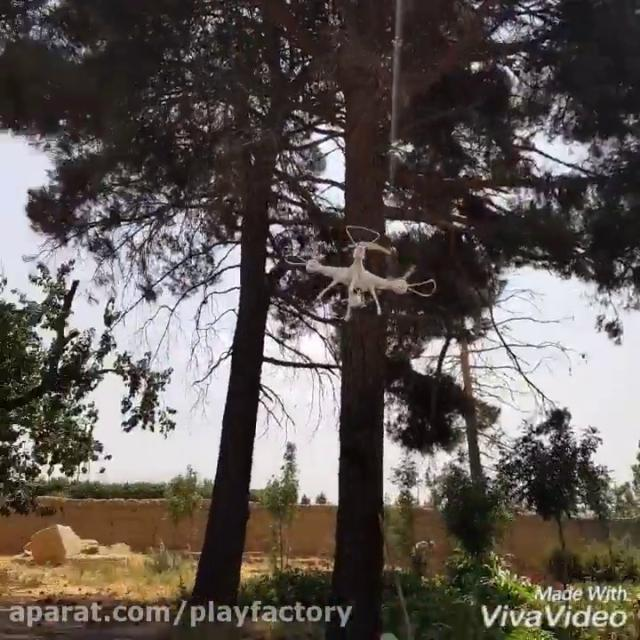drone: (284, 224, 436, 323)
